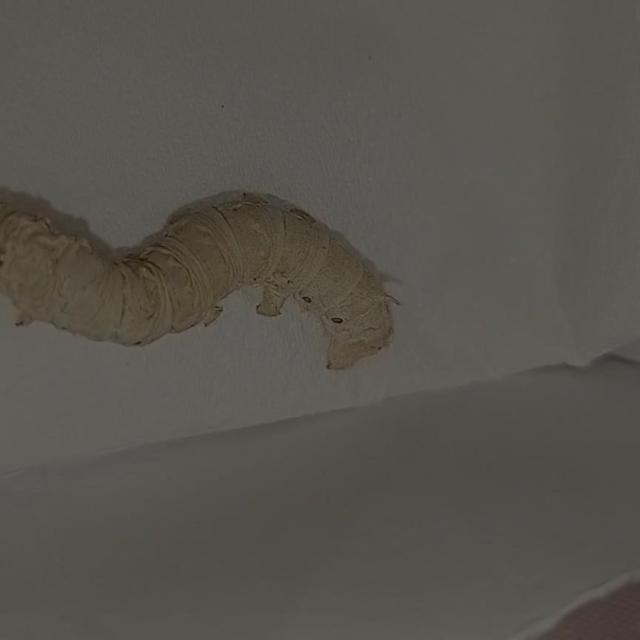Healthy: (0, 141, 417, 444)
